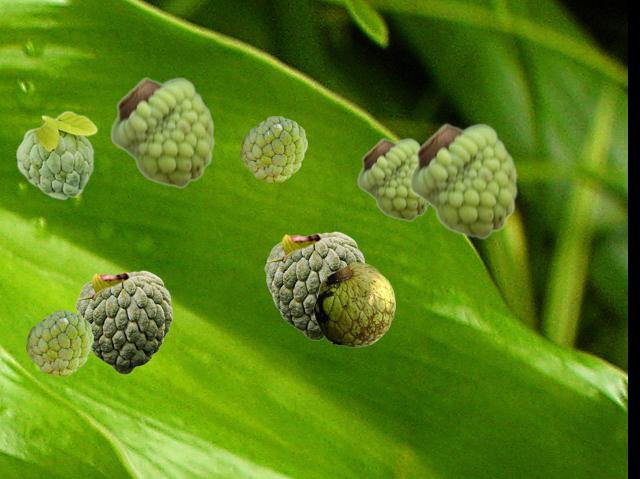atis: (409, 122, 517, 239), (110, 76, 214, 188), (264, 231, 365, 339), (75, 270, 171, 373), (15, 110, 97, 199), (313, 262, 394, 346), (357, 137, 428, 221), (240, 116, 306, 181), (26, 310, 92, 375)
